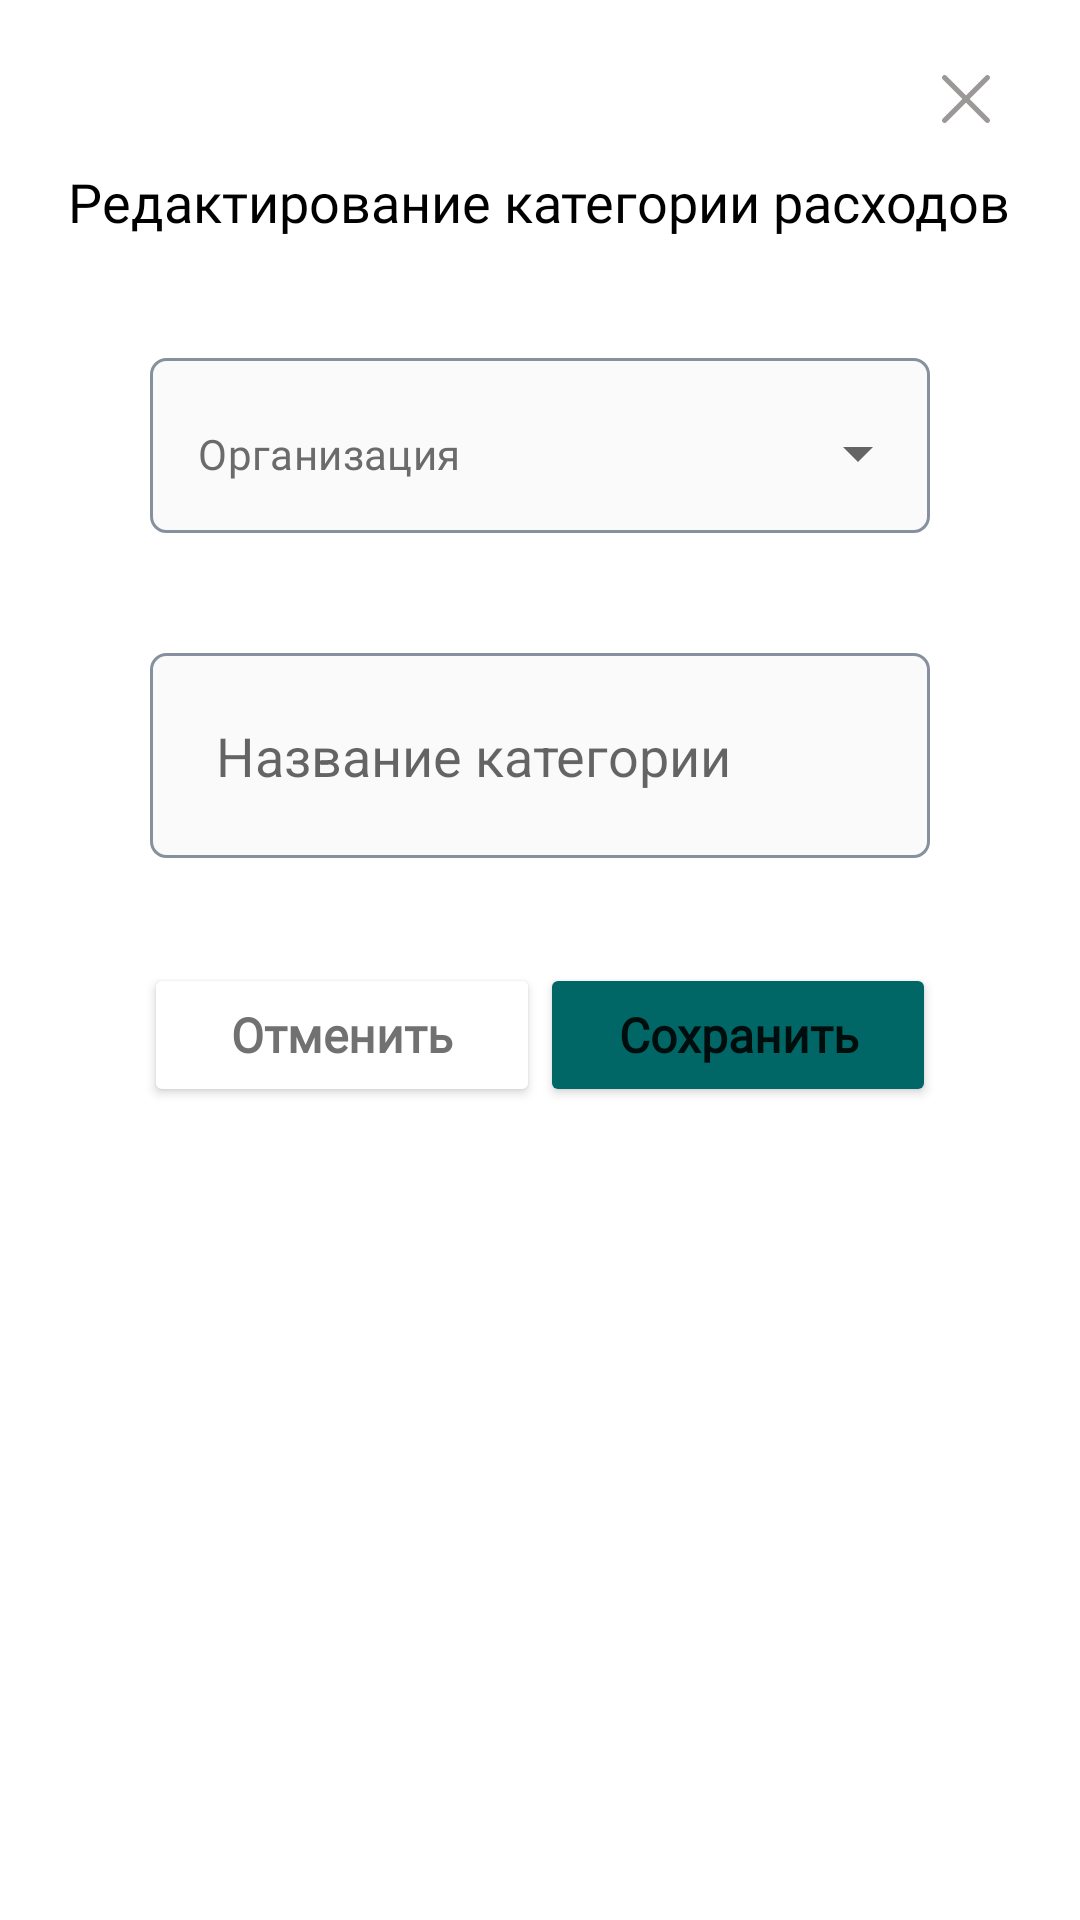

Point at icon controls on the screen. Image size 1080*1920, points as (x=x, y=y).
close: (x=966, y=99)
